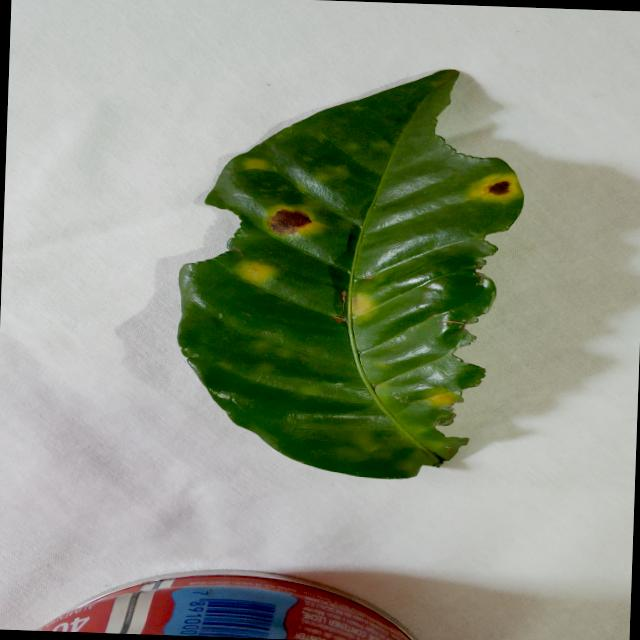KaratDaunKopi: (243, 158, 274, 170)
PengorokDaunKopi: (269, 209, 311, 234), (488, 180, 509, 195), (340, 290, 346, 313), (332, 316, 346, 322)
